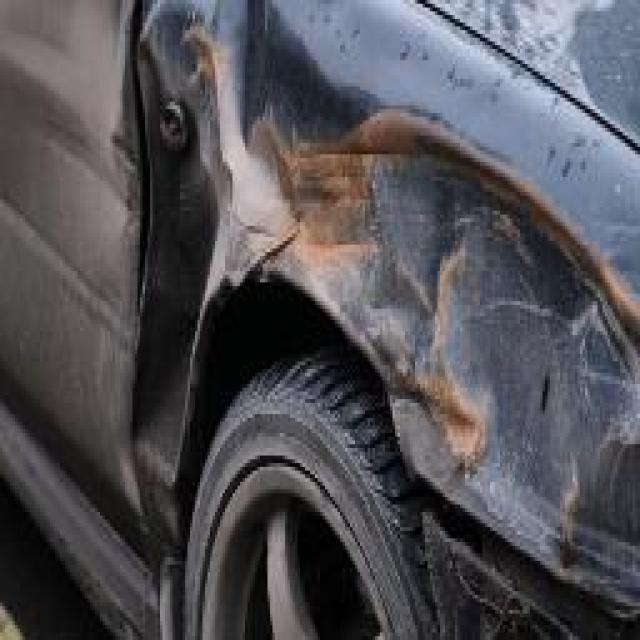Fender: (138, 0, 640, 640)
